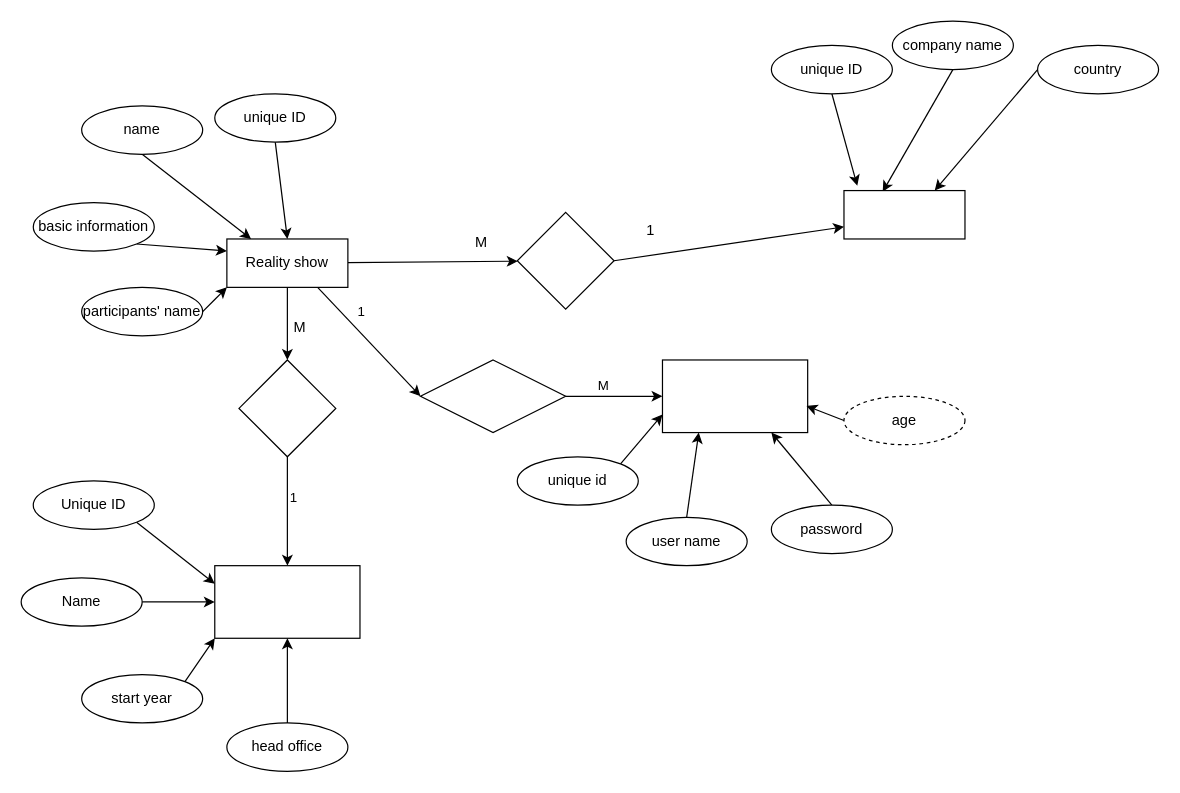
Image size: 1180x793. Some labels were removed from this diagram. The shapes that lost their labels are listed below. From the top down, each one's box as (x1, y1, x2, y2) in pixels, then its label:
(843, 189, 965, 239): producer
(516, 211, 614, 309): produce
(238, 359, 336, 457): has
(419, 359, 566, 433): rate
(661, 359, 808, 433): user
(214, 564, 360, 638): TV channel
